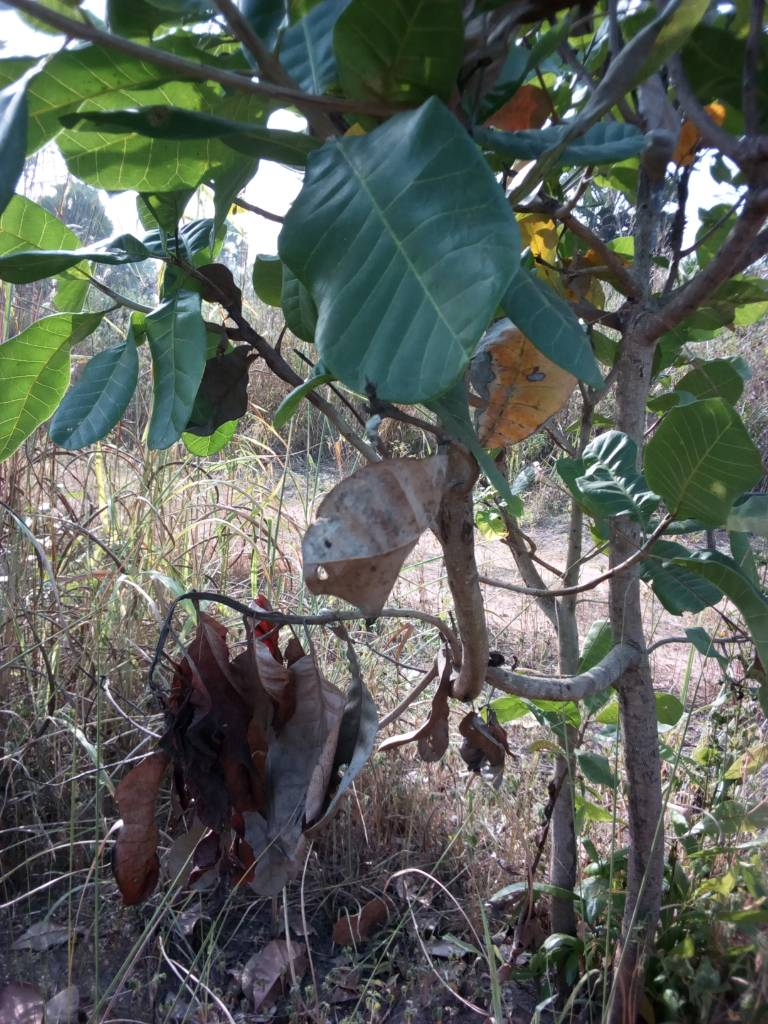Dessèchement des bourgeons: (101, 594, 371, 876)
